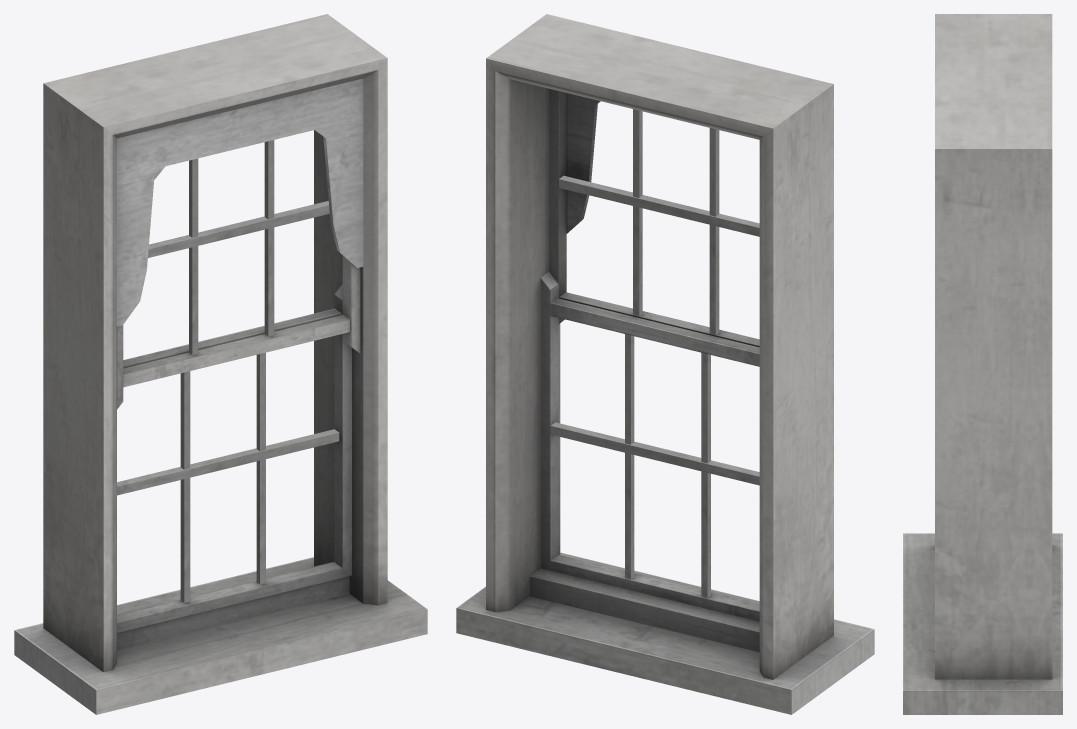
Rendered from Window_04_open.FBX.
3 views of the same model, side by side, from view 1: azimuth 30°, elevation 25°; view 2: azimuth 150°, elevation 25°; view 3: azimuth 270°, elevation 25° (orthographic). The views are drawn at different scales.
Visible parts, largest first — view 1: WindowFrame_04; view 2: WindowFrame_04; view 3: WindowFrame_04.
Part boxes in pixels (bbox=[...]): WindowFrame_04: bbox=[14, 14, 427, 714]; WindowFrame_04: bbox=[456, 14, 874, 714]; WindowFrame_04: bbox=[903, 14, 1062, 714].
Bounding box in the file's own units: 70 × 115 × 30.
